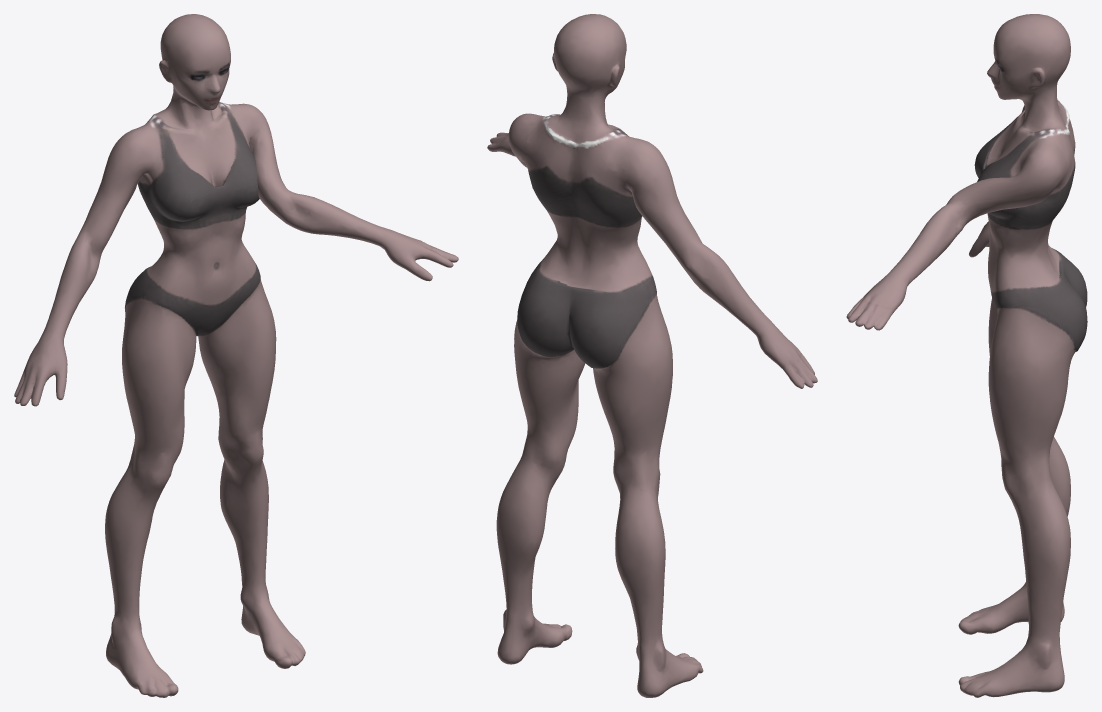
File: 19-UpperArmR-60-child60-twist20-baseline.glb
3 renders of one model, left to right at view 1: azimuth 30°, elevation 25°; view 2: azimuth 150°, elevation 25°; view 3: azimuth 270°, elevation 25°, orthographic. The views are drawn at different scales.
Visible parts, largest first — view 1: baseline; view 2: baseline; view 3: baseline.
Boxes of the visible parts, x1=… form: baseline: x1=14, y1=14, x2=458, y2=697; baseline: x1=487, y1=14, x2=817, y2=697; baseline: x1=846, y1=14, x2=1087, y2=697.
Bounding box in the file's own units: 0.6186 × 1 × 0.3402.
Materials: 1 (1 with a texture image).
